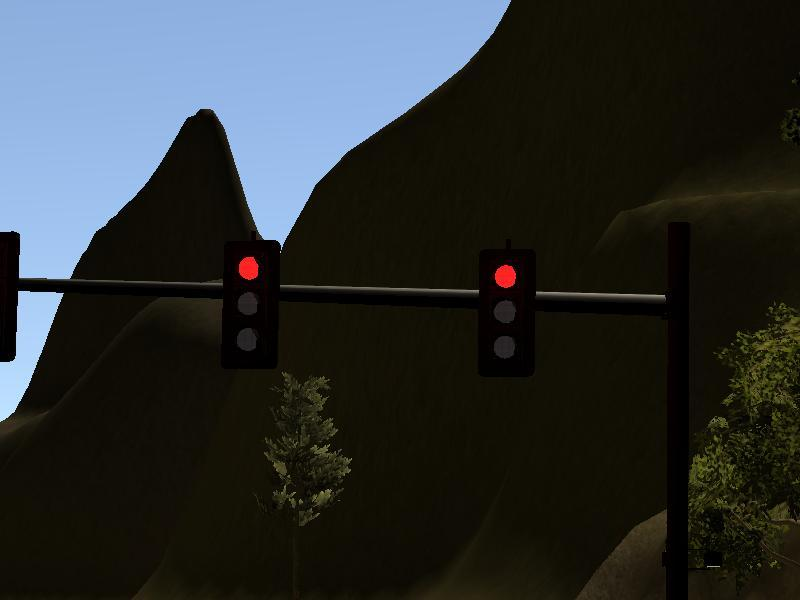Red: (478, 248, 536, 377), (221, 240, 279, 368)
